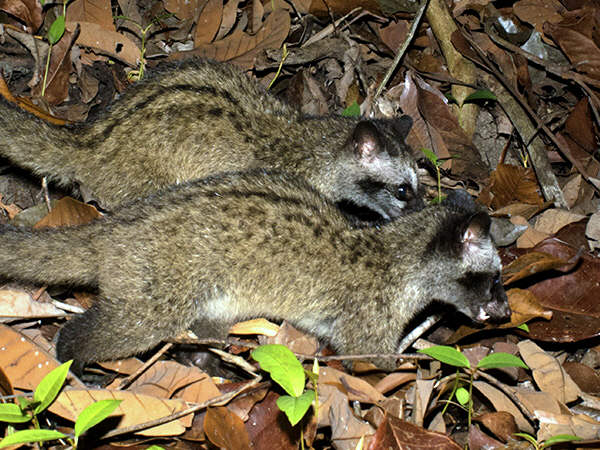Civet: (30, 177, 525, 383)
